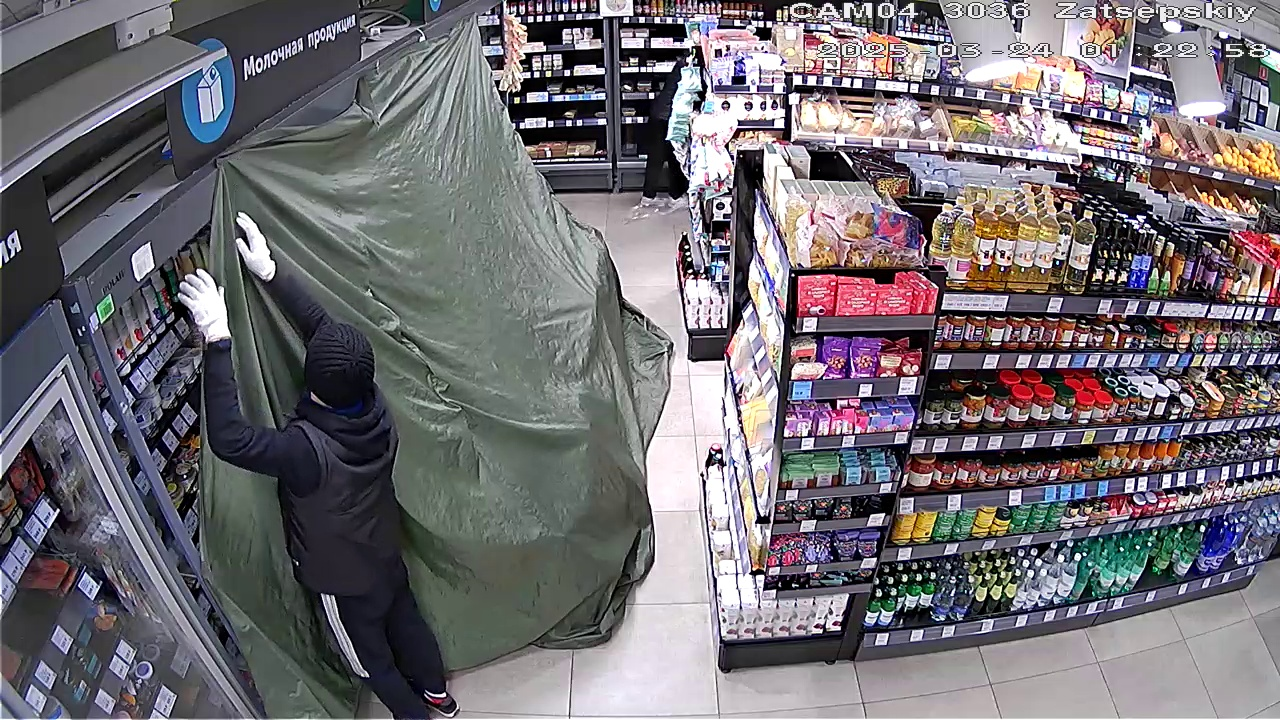Human: (173, 215, 461, 719), (633, 45, 703, 207)
dome: (192, 42, 675, 699)
